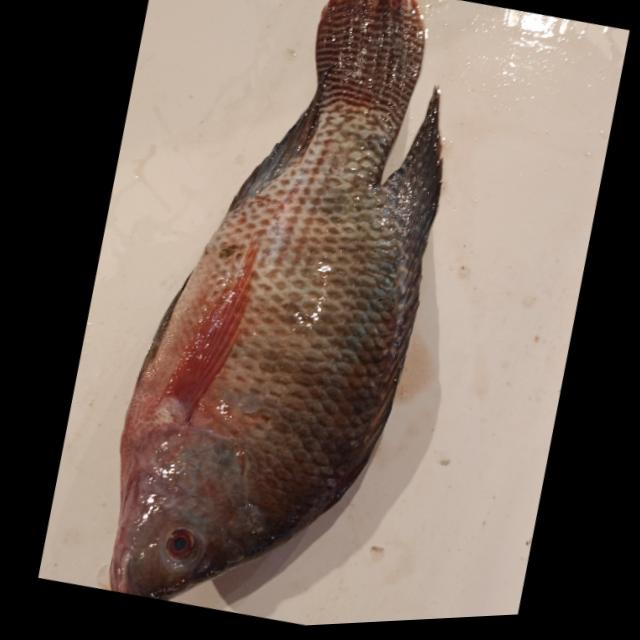Tilapia: (72, 0, 499, 636)
